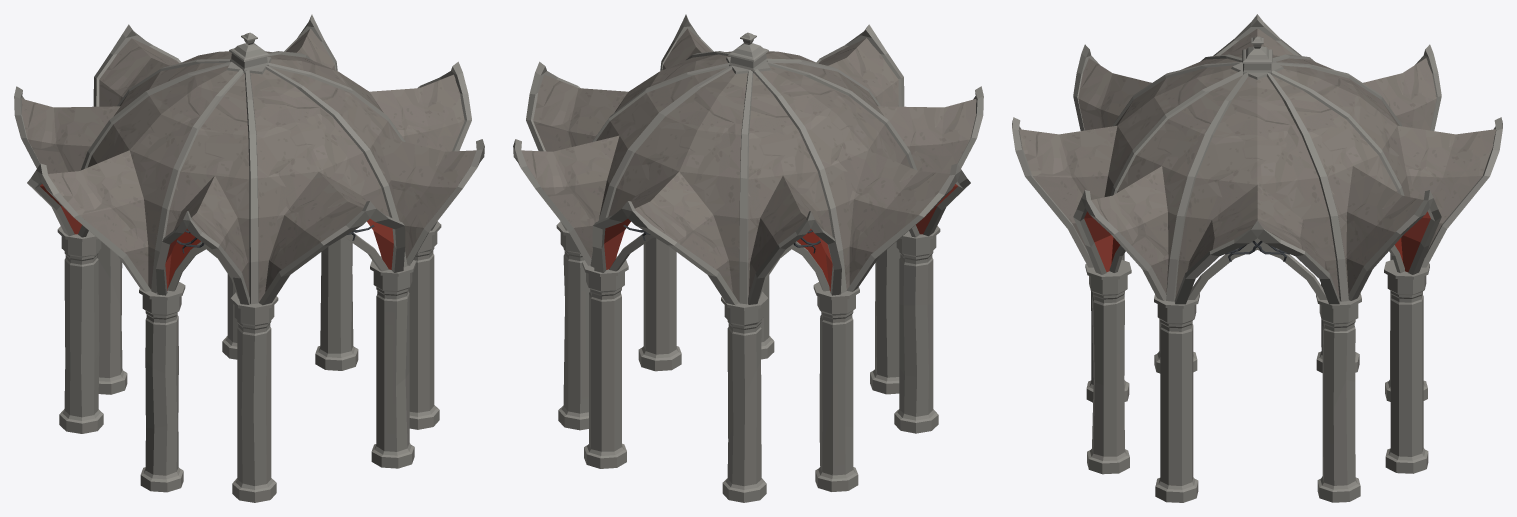
The model's file is el_bld_barracks.gltf.
The picture shows the model from 3 angles, left to right: view 1: azimuth 30°, elevation 25°; view 2: azimuth 150°, elevation 25°; view 3: azimuth 270°, elevation 25°; orthographic projection.
Visible parts, largest first — view 1: el_bld_barracks; view 2: el_bld_barracks; view 3: el_bld_barracks.
Boxes of the visible parts, bbox=[...] form: el_bld_barracks: bbox=[14, 14, 484, 502]; el_bld_barracks: bbox=[513, 14, 983, 502]; el_bld_barracks: bbox=[1012, 14, 1502, 502].
Bounding box in the file's own units: 5.06 × 4.48 × 5.06.
Materials: 2 (2 with a texture image).
